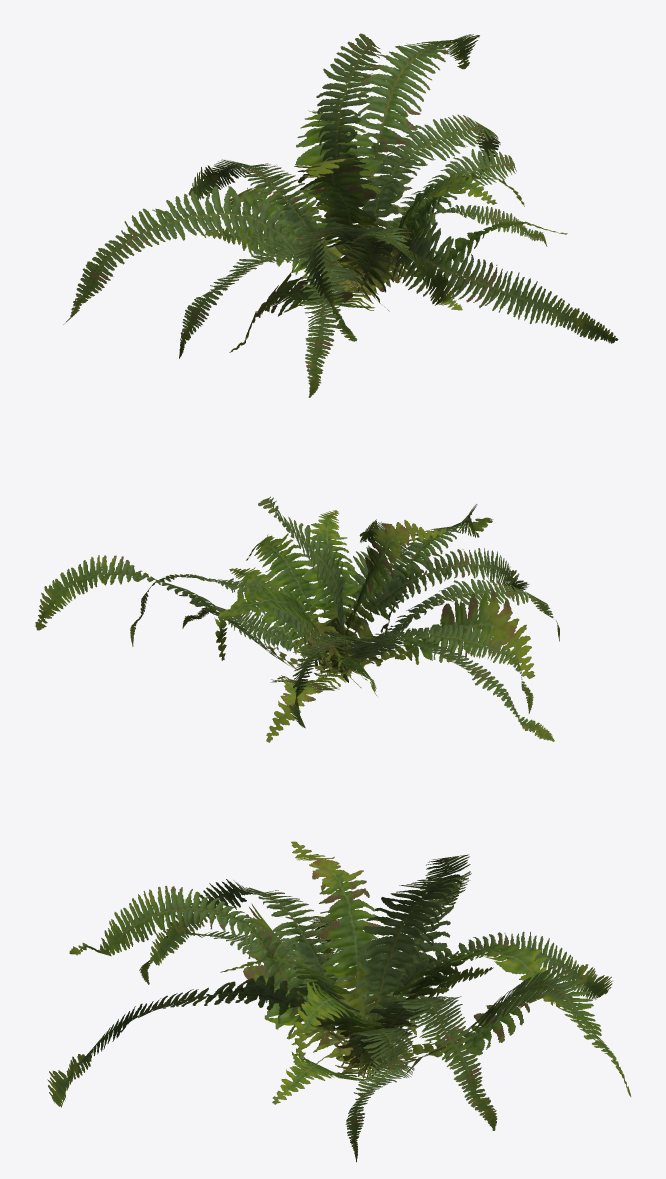
The model's file is fern.glb.
3 renders of one model, top to bottom at view 1: azimuth 30°, elevation 25°; view 2: azimuth 150°, elevation 25°; view 3: azimuth 270°, elevation 25°, orthographic. The views are drawn at different scales.
Visible parts, largest first — view 1: fern; view 2: fern; view 3: fern.
Boxes of the visible parts, bbox=[...] form: fern: bbox=[63, 33, 618, 397]; fern: bbox=[35, 496, 559, 742]; fern: bbox=[47, 841, 631, 1162].
Size of the model in its own units: 1.07 by 0.5132 by 0.9646.
Materials: 1 (1 with a texture image).
